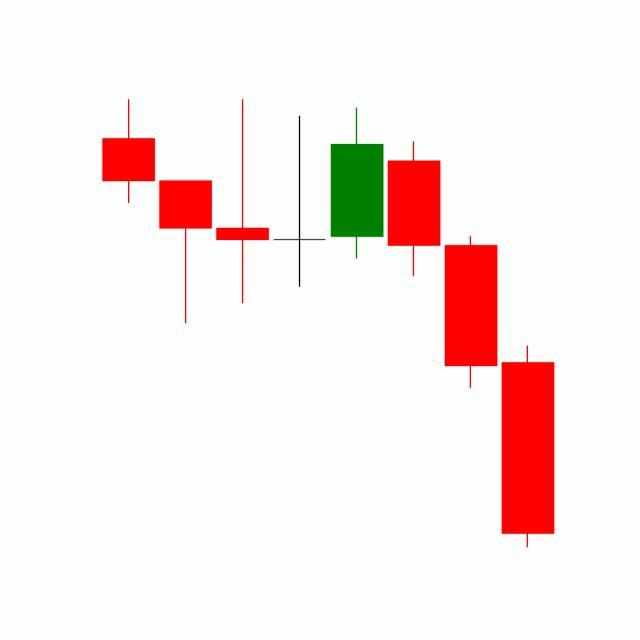Hikkake Pattern: (214, 99, 501, 393)
